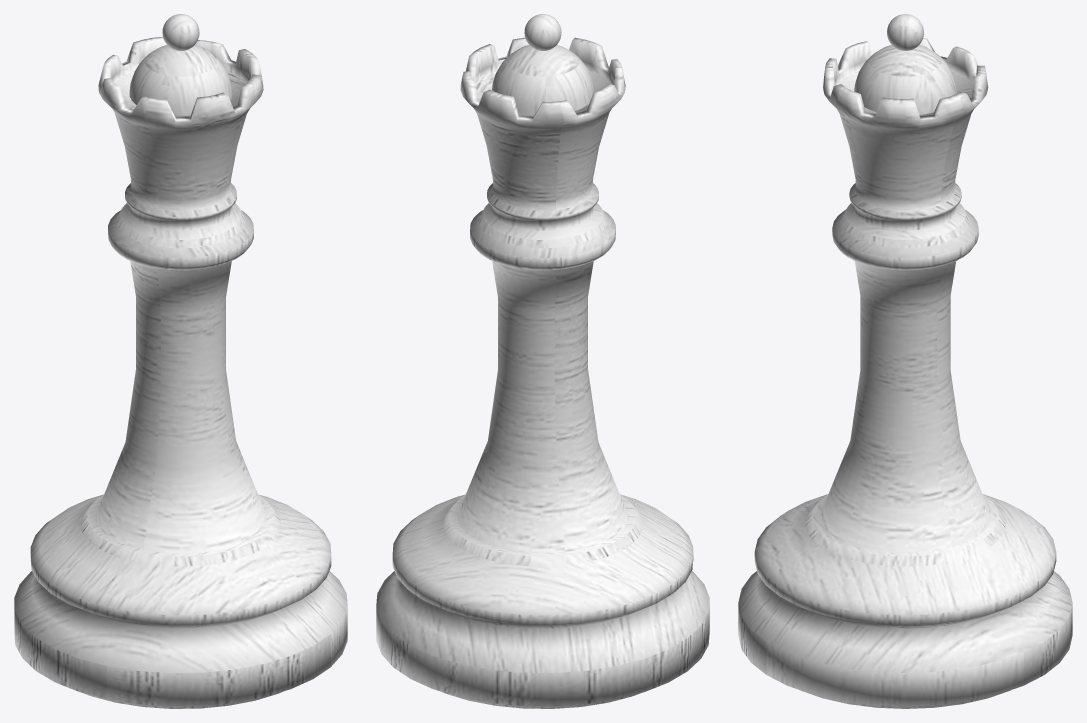
The model's file is queen-white.fbx.
The picture shows the model from 3 angles, left to right: view 1: azimuth 30°, elevation 25°; view 2: azimuth 150°, elevation 25°; view 3: azimuth 270°, elevation 25°; orthographic projection.
Visible parts, largest first — view 1: Queen.001; view 2: Queen.001; view 3: Queen.001.
Part boxes in pixels (x1,y1,x2,y2): Queen.001: (14,14,347,708); Queen.001: (376,14,709,708); Queen.001: (738,14,1072,708).
Bounding box in the file's own units: 114 × 237 × 114.
Materials: 1 (1 with a texture image).
